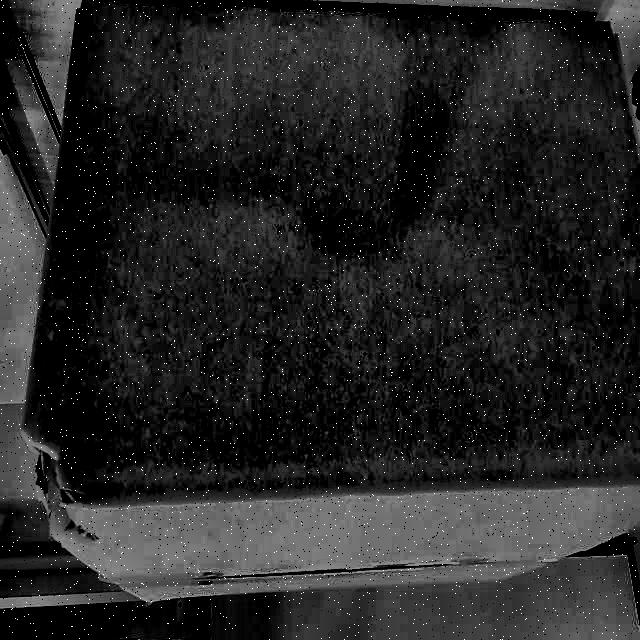box: (5, 1, 639, 612)
hole: (27, 441, 100, 535)
